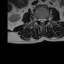CCS_normal: (40, 16, 43, 24)
LFS_normal: (45, 16, 47, 22)
LLS_normal: (43, 16, 45, 23)
RFS_normal: (36, 16, 38, 22)
RLS_normal: (38, 16, 40, 23)
